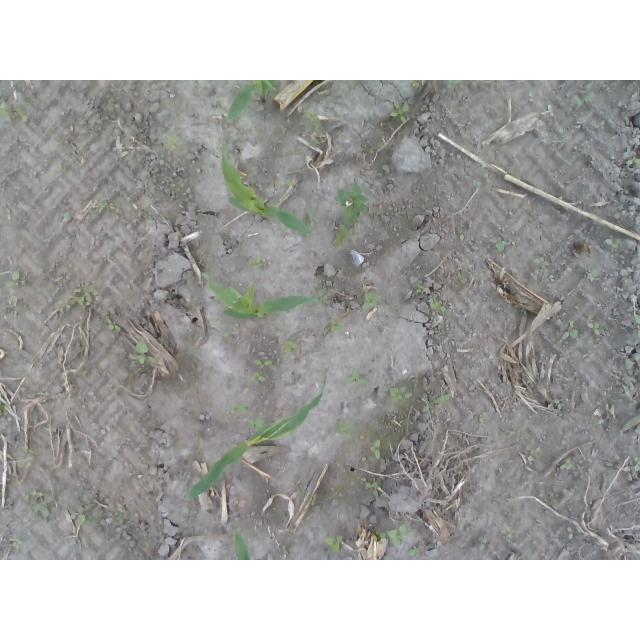Maize: (187, 377, 328, 500), (222, 139, 314, 236), (204, 273, 321, 323), (224, 81, 280, 124), (234, 530, 253, 560)
Weeds: (331, 183, 370, 250), (124, 336, 161, 380), (59, 283, 97, 314), (373, 523, 416, 550), (19, 484, 49, 513), (0, 93, 28, 122), (389, 97, 417, 124), (352, 474, 380, 498), (384, 383, 414, 405), (421, 392, 452, 413), (360, 288, 384, 312), (70, 503, 96, 525), (342, 367, 371, 386), (5, 269, 32, 289), (323, 534, 347, 555), (335, 416, 353, 441), (428, 299, 449, 320), (560, 319, 576, 346), (96, 200, 121, 217), (279, 339, 298, 360), (524, 445, 544, 464), (604, 237, 625, 255), (103, 313, 121, 333), (585, 319, 605, 337), (248, 414, 269, 431), (112, 504, 128, 525), (559, 455, 578, 472), (251, 357, 277, 369), (367, 437, 381, 459), (573, 93, 593, 108), (166, 133, 179, 156), (246, 372, 270, 384), (174, 177, 190, 194), (8, 536, 24, 553), (305, 111, 320, 129), (330, 317, 345, 335), (252, 255, 267, 272), (496, 239, 513, 253), (232, 403, 251, 415), (532, 255, 544, 272), (633, 309, 640, 338), (629, 455, 640, 473), (503, 527, 520, 538), (150, 174, 164, 186), (280, 544, 289, 561), (480, 536, 489, 553), (5, 294, 17, 306), (624, 158, 640, 167), (552, 399, 564, 411), (529, 271, 543, 281), (447, 80, 464, 88), (17, 462, 32, 471), (591, 270, 602, 282), (0, 400, 8, 416), (567, 527, 575, 541), (79, 367, 89, 378), (416, 285, 426, 296), (20, 448, 32, 457), (296, 487, 305, 497), (479, 414, 488, 424), (311, 497, 319, 508), (408, 80, 416, 90), (407, 548, 417, 556), (64, 211, 72, 221), (592, 121, 600, 130), (635, 353, 640, 365), (459, 232, 465, 241)
